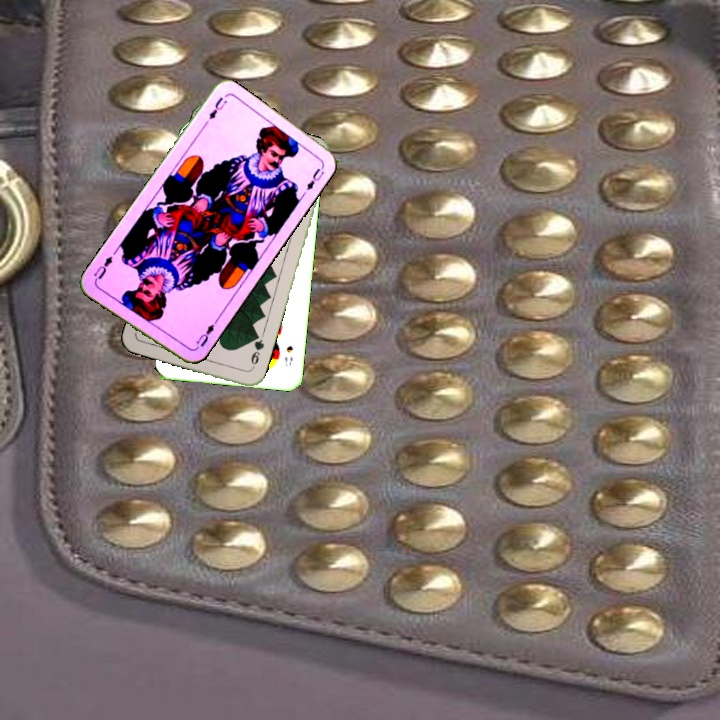EU: (192, 317, 220, 349), (205, 93, 230, 122)
G9: (247, 332, 267, 372)
S8: (281, 342, 296, 369)
